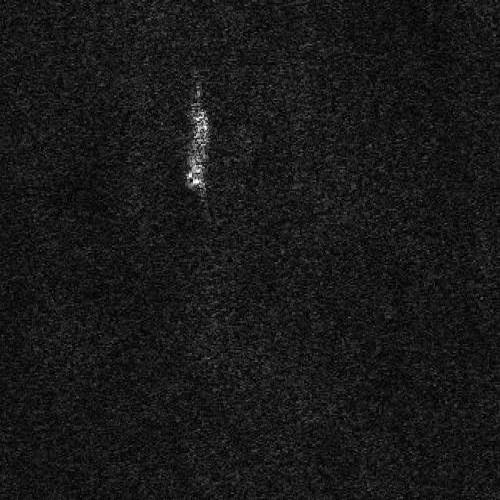ship: (186, 106, 209, 192)
